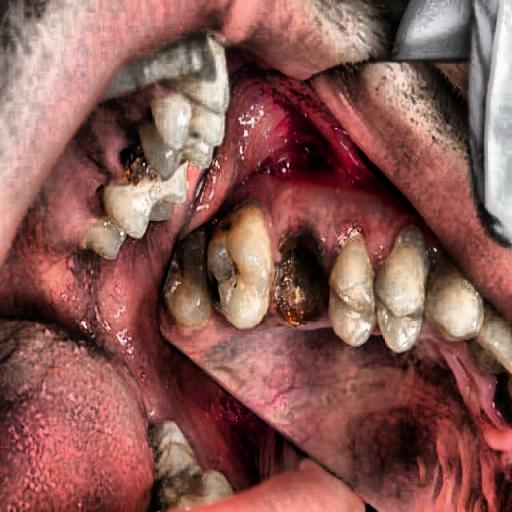Caries: (103, 130, 245, 310), (252, 192, 338, 322)
